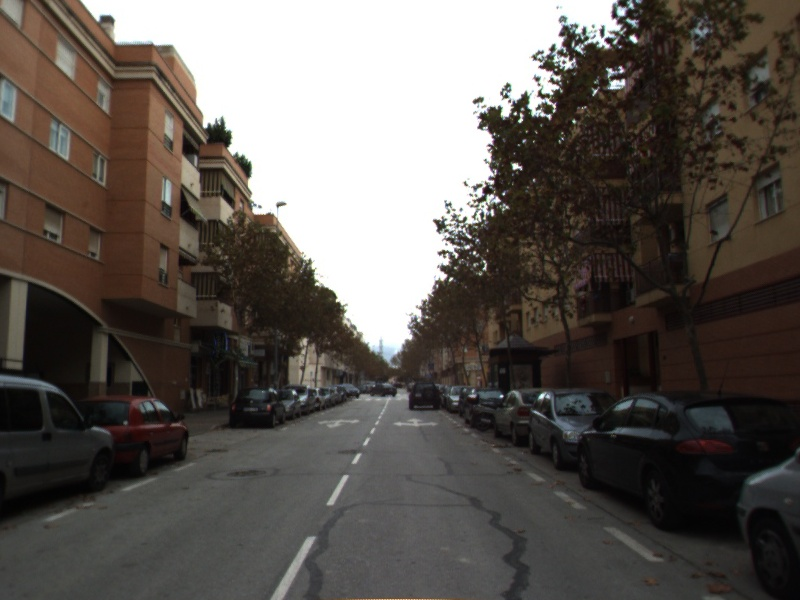STRAIGHT_LEFT_RIGHT: (391, 416, 442, 429)
